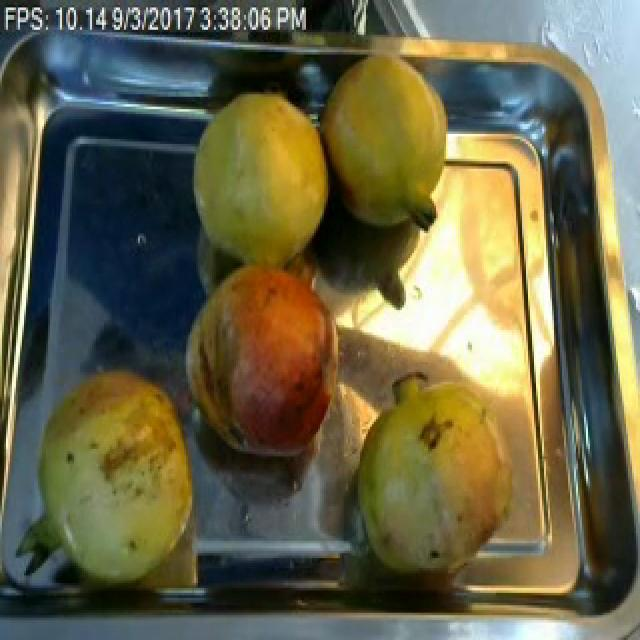fruit: (28, 352, 206, 596), (344, 360, 528, 595), (180, 248, 350, 469), (310, 47, 458, 246), (186, 82, 336, 273)
